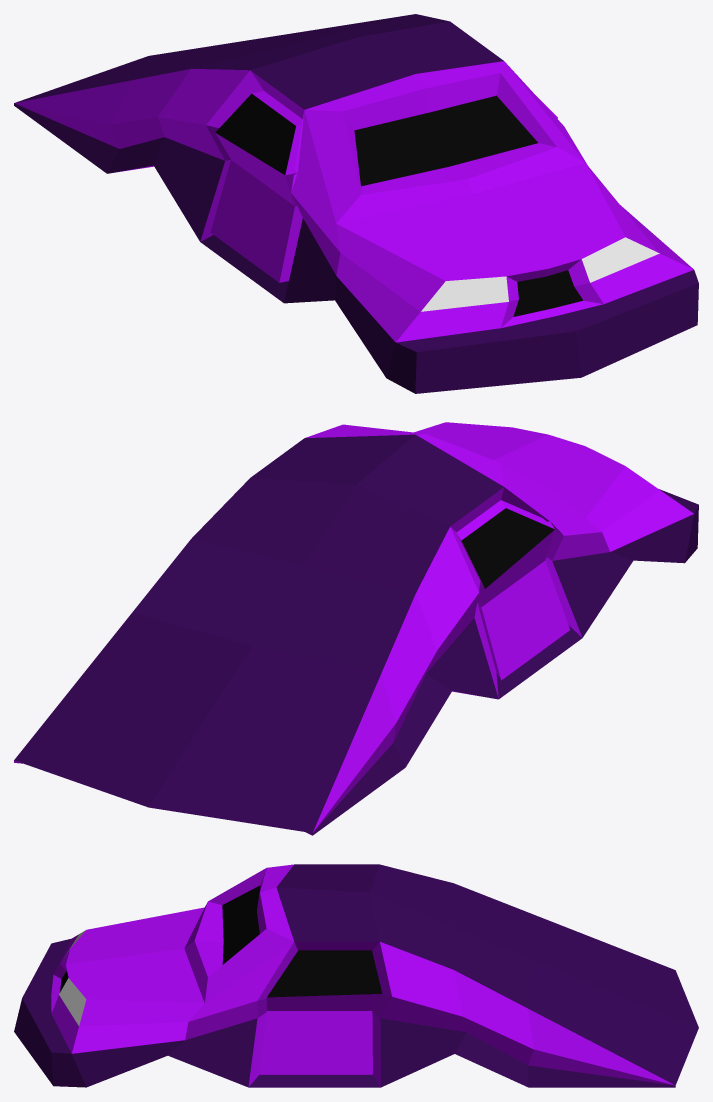
The model's file is RampCar.fbx.
3 views of the same model, one above another, from view 1: azimuth 30°, elevation 25°; view 2: azimuth 150°, elevation 25°; view 3: azimuth 270°, elevation 25° (orthographic). The views are drawn at different scales.
Visible parts, largest first — view 1: Cube; view 2: Cube; view 3: Cube.
Boxes of the visible parts, x1=… form: Cube: x1=14, y1=14, x2=698, y2=393; Cube: x1=14, y1=422, x2=698, y2=835; Cube: x1=14, y1=864, x2=698, y2=1087.
Size of the model in its own units: 802 by 468 by 2014.
